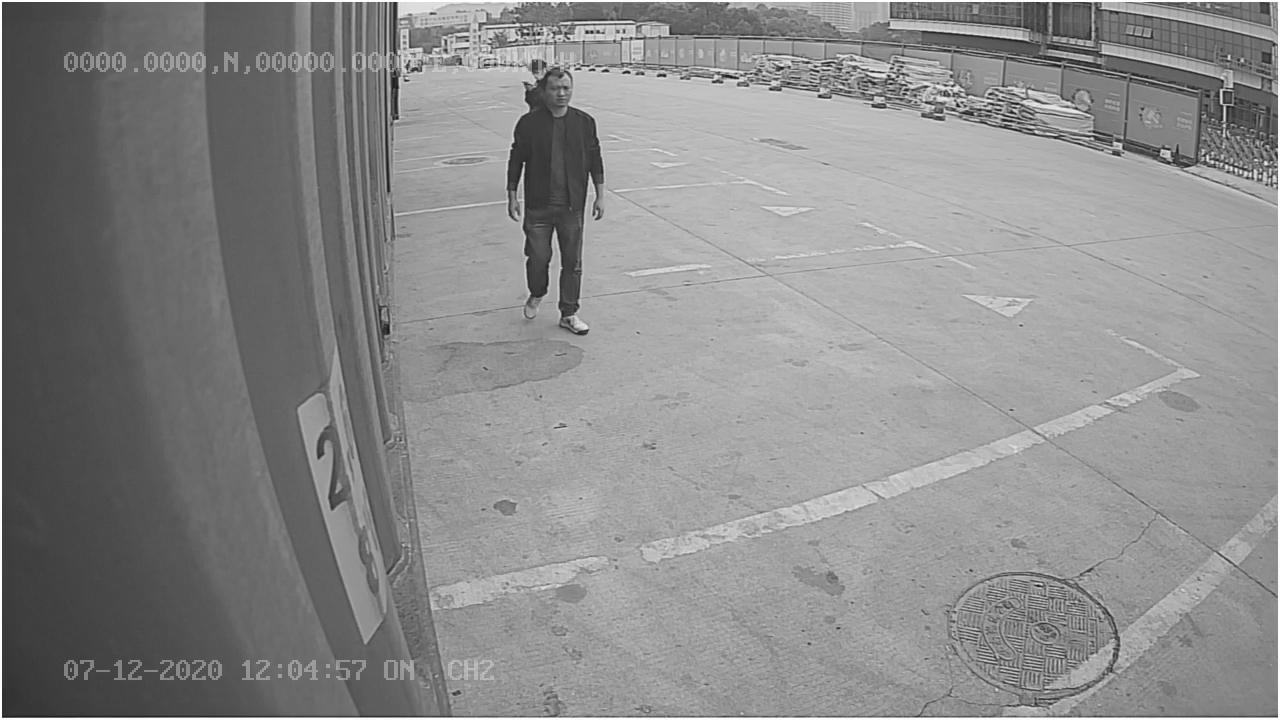person: (500, 64, 608, 334)
